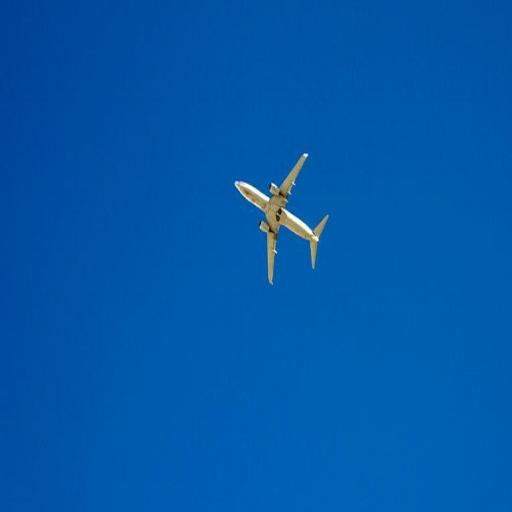aircraft: (234, 151, 329, 287)
